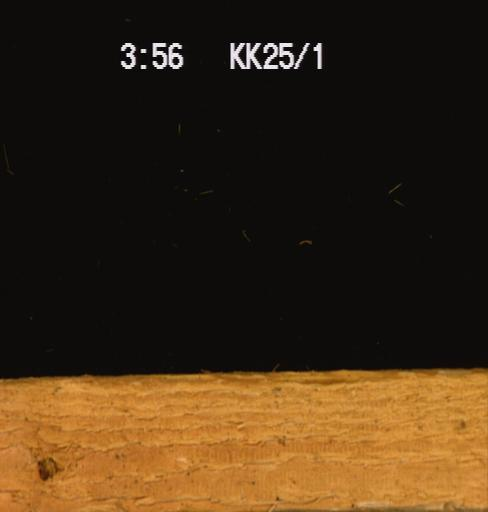dry_knot: (34, 454, 60, 481)
